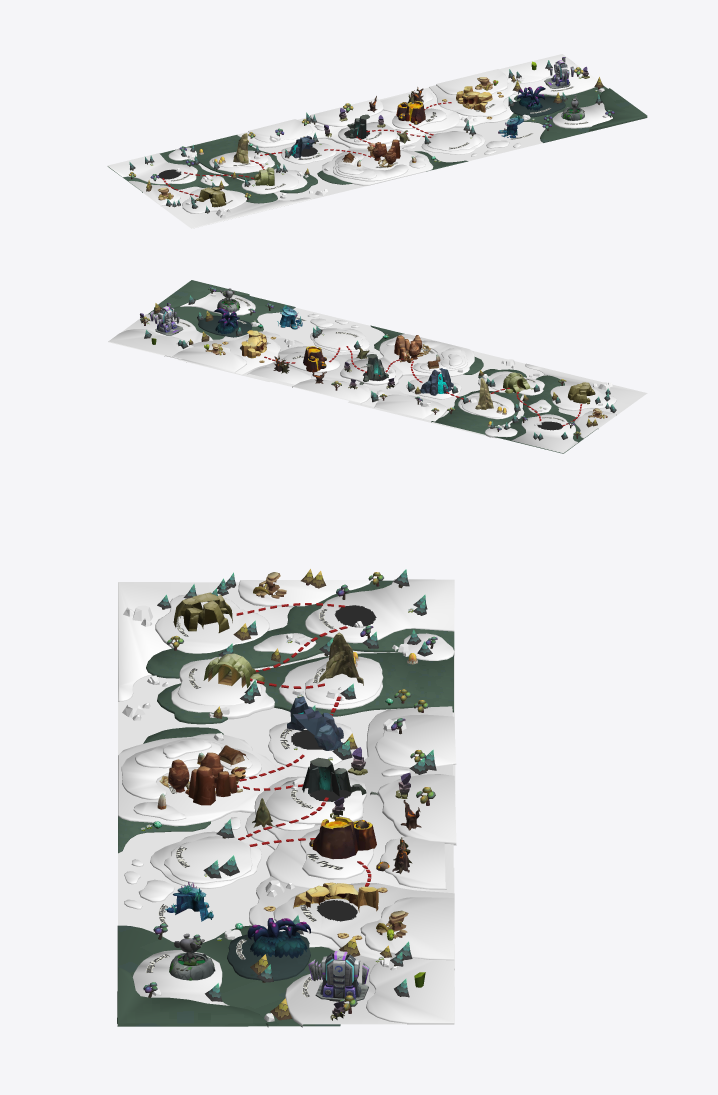
File: 12_08_Rung_Hoa_Cam_Dao_Go_Ghe.glb
3 renders of one model, top to bottom at view 1: azimuth 30°, elevation 25°; view 2: azimuth 150°, elevation 25°; view 3: azimuth 270°, elevation 25°, orthographic. The views are drawn at different scales.
Visible parts, largest first — view 1: 12_08_Rung_Hoa_Cam_Dao_Go_Ghe; view 2: 12_08_Rung_Hoa_Cam_Dao_Go_Ghe; view 3: 12_08_Rung_Hoa_Cam_Dao_Go_Ghe.
Boxes of the visible parts, box(x1,y1,x2,y2) form: 12_08_Rung_Hoa_Cam_Dao_Go_Ghe: box(107, 54, 647, 228); 12_08_Rung_Hoa_Cam_Dao_Go_Ghe: box(108, 280, 647, 453); 12_08_Rung_Hoa_Cam_Dao_Go_Ghe: box(117, 569, 456, 1027).
Size of the model in its own units: 214 by 10.87 by 78.79.
Materials: 39 (33 with a texture image).
